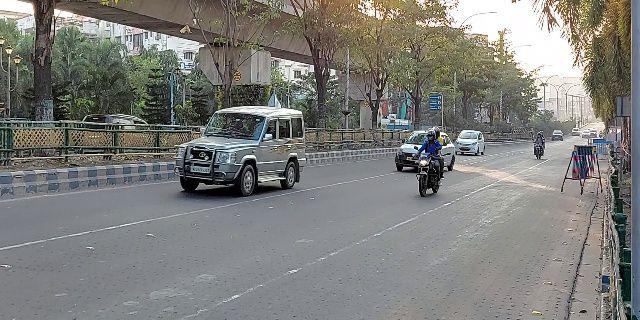Car: (171, 104, 308, 199), (392, 130, 458, 173), (455, 128, 488, 157)
Motorbike: (413, 123, 445, 200), (530, 128, 547, 163)
